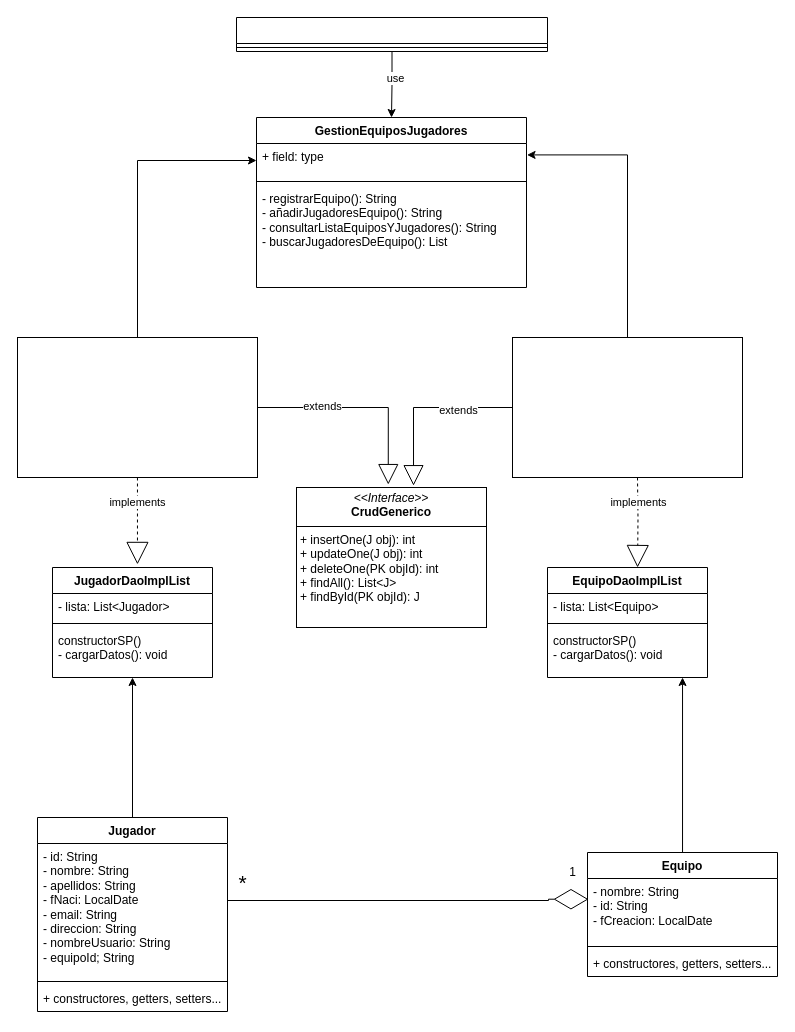
Image size: 795x1032. Some labels were removed from this diagram. Each missing label, with the centre of its shape:
<<Interface>> EquipoDao: point 627,407
<<Interface>> JugadorDao + findByNombreUsuario(String ns): Jugador: point 137,407
GestionEquiposYJugadoresCLI: point 392,34
